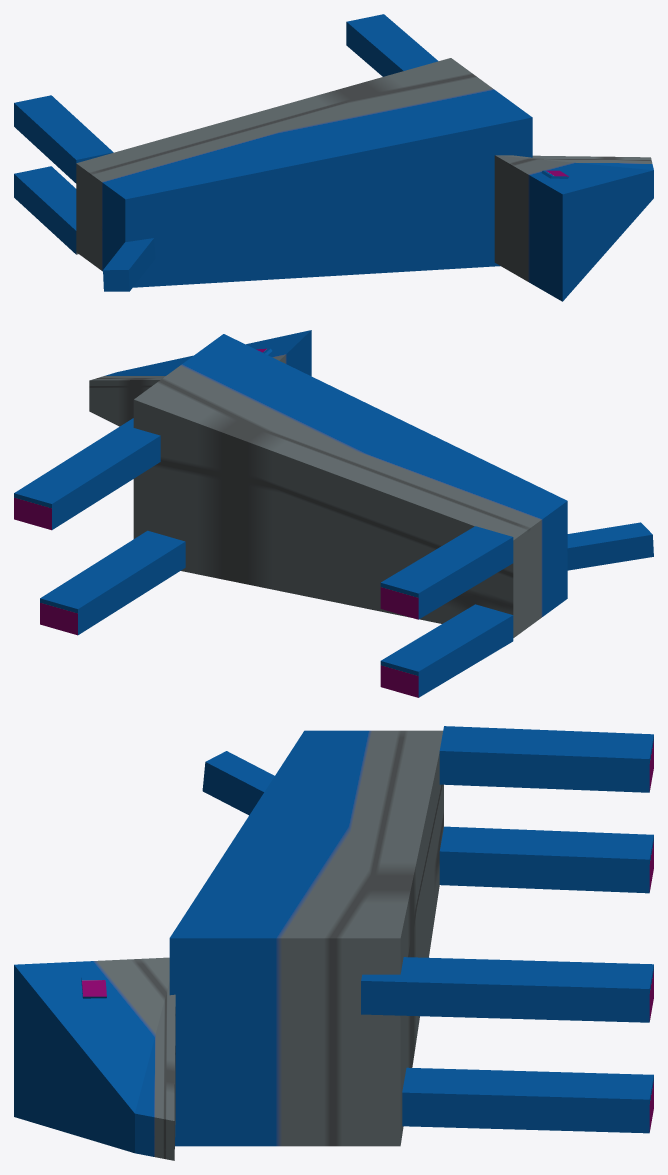
The model's file is RobotMechWolf.obj.
3 renders of one model, top to bottom at view 1: azimuth 30°, elevation 25°; view 2: azimuth 150°, elevation 25°; view 3: azimuth 270°, elevation 25°, orthographic. The views are drawn at different scales.
Parts seen in each view (by area): view 1: Cube, Cube.005, Cube.002, Cube.003, Cube.001, Cube.006; view 2: Cube, Cube.003, Cube.004, Cube.001, Cube.002, Cube.005, Cube.006; view 3: Cube, Cube.005, Cube.003, Cube.004, Cube.001, Cube.002, Cube.006.
Part boxes in pixels (<box>): Cube: <box>76,58,532,287</box>; Cube.005: <box>494,155,653,301</box>; Cube.002: <box>14,95,113,183</box>; Cube.003: <box>346,14,438,76</box>; Cube.001: <box>14,166,78,254</box>; Cube.006: <box>103,238,155,291</box>; Cube: <box>133,334,567,637</box>; Cube.003: <box>14,418,160,530</box>; Cube.004: <box>40,530,185,635</box>; Cube.001: <box>380,604,513,697</box>; Cube.002: <box>380,526,513,619</box>; Cube.005: <box>89,330,311,426</box>; Cube.006: <box>567,522,653,570</box>; Cube: <box>169,730,443,1146</box>; Cube.005: <box>14,957,175,1160</box>; Cube.003: <box>361,957,653,1022</box>; Cube.004: <box>402,1067,653,1133</box>; Cube.001: <box>439,826,653,893</box>; Cube.002: <box>439,726,653,792</box>; Cube.006: <box>202,751,274,815</box>.
Size of the model in its own units: 5.64 by 1.49 by 4.16.
